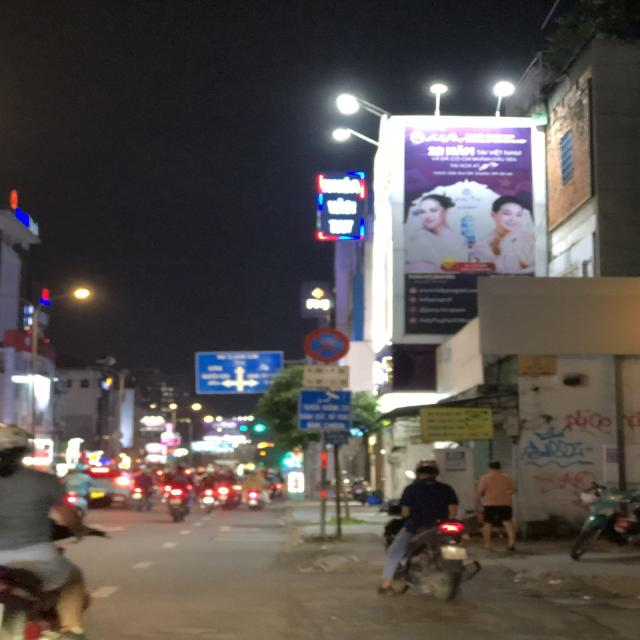Bien bao cam dung xe va do xe: (300, 322, 354, 365)
